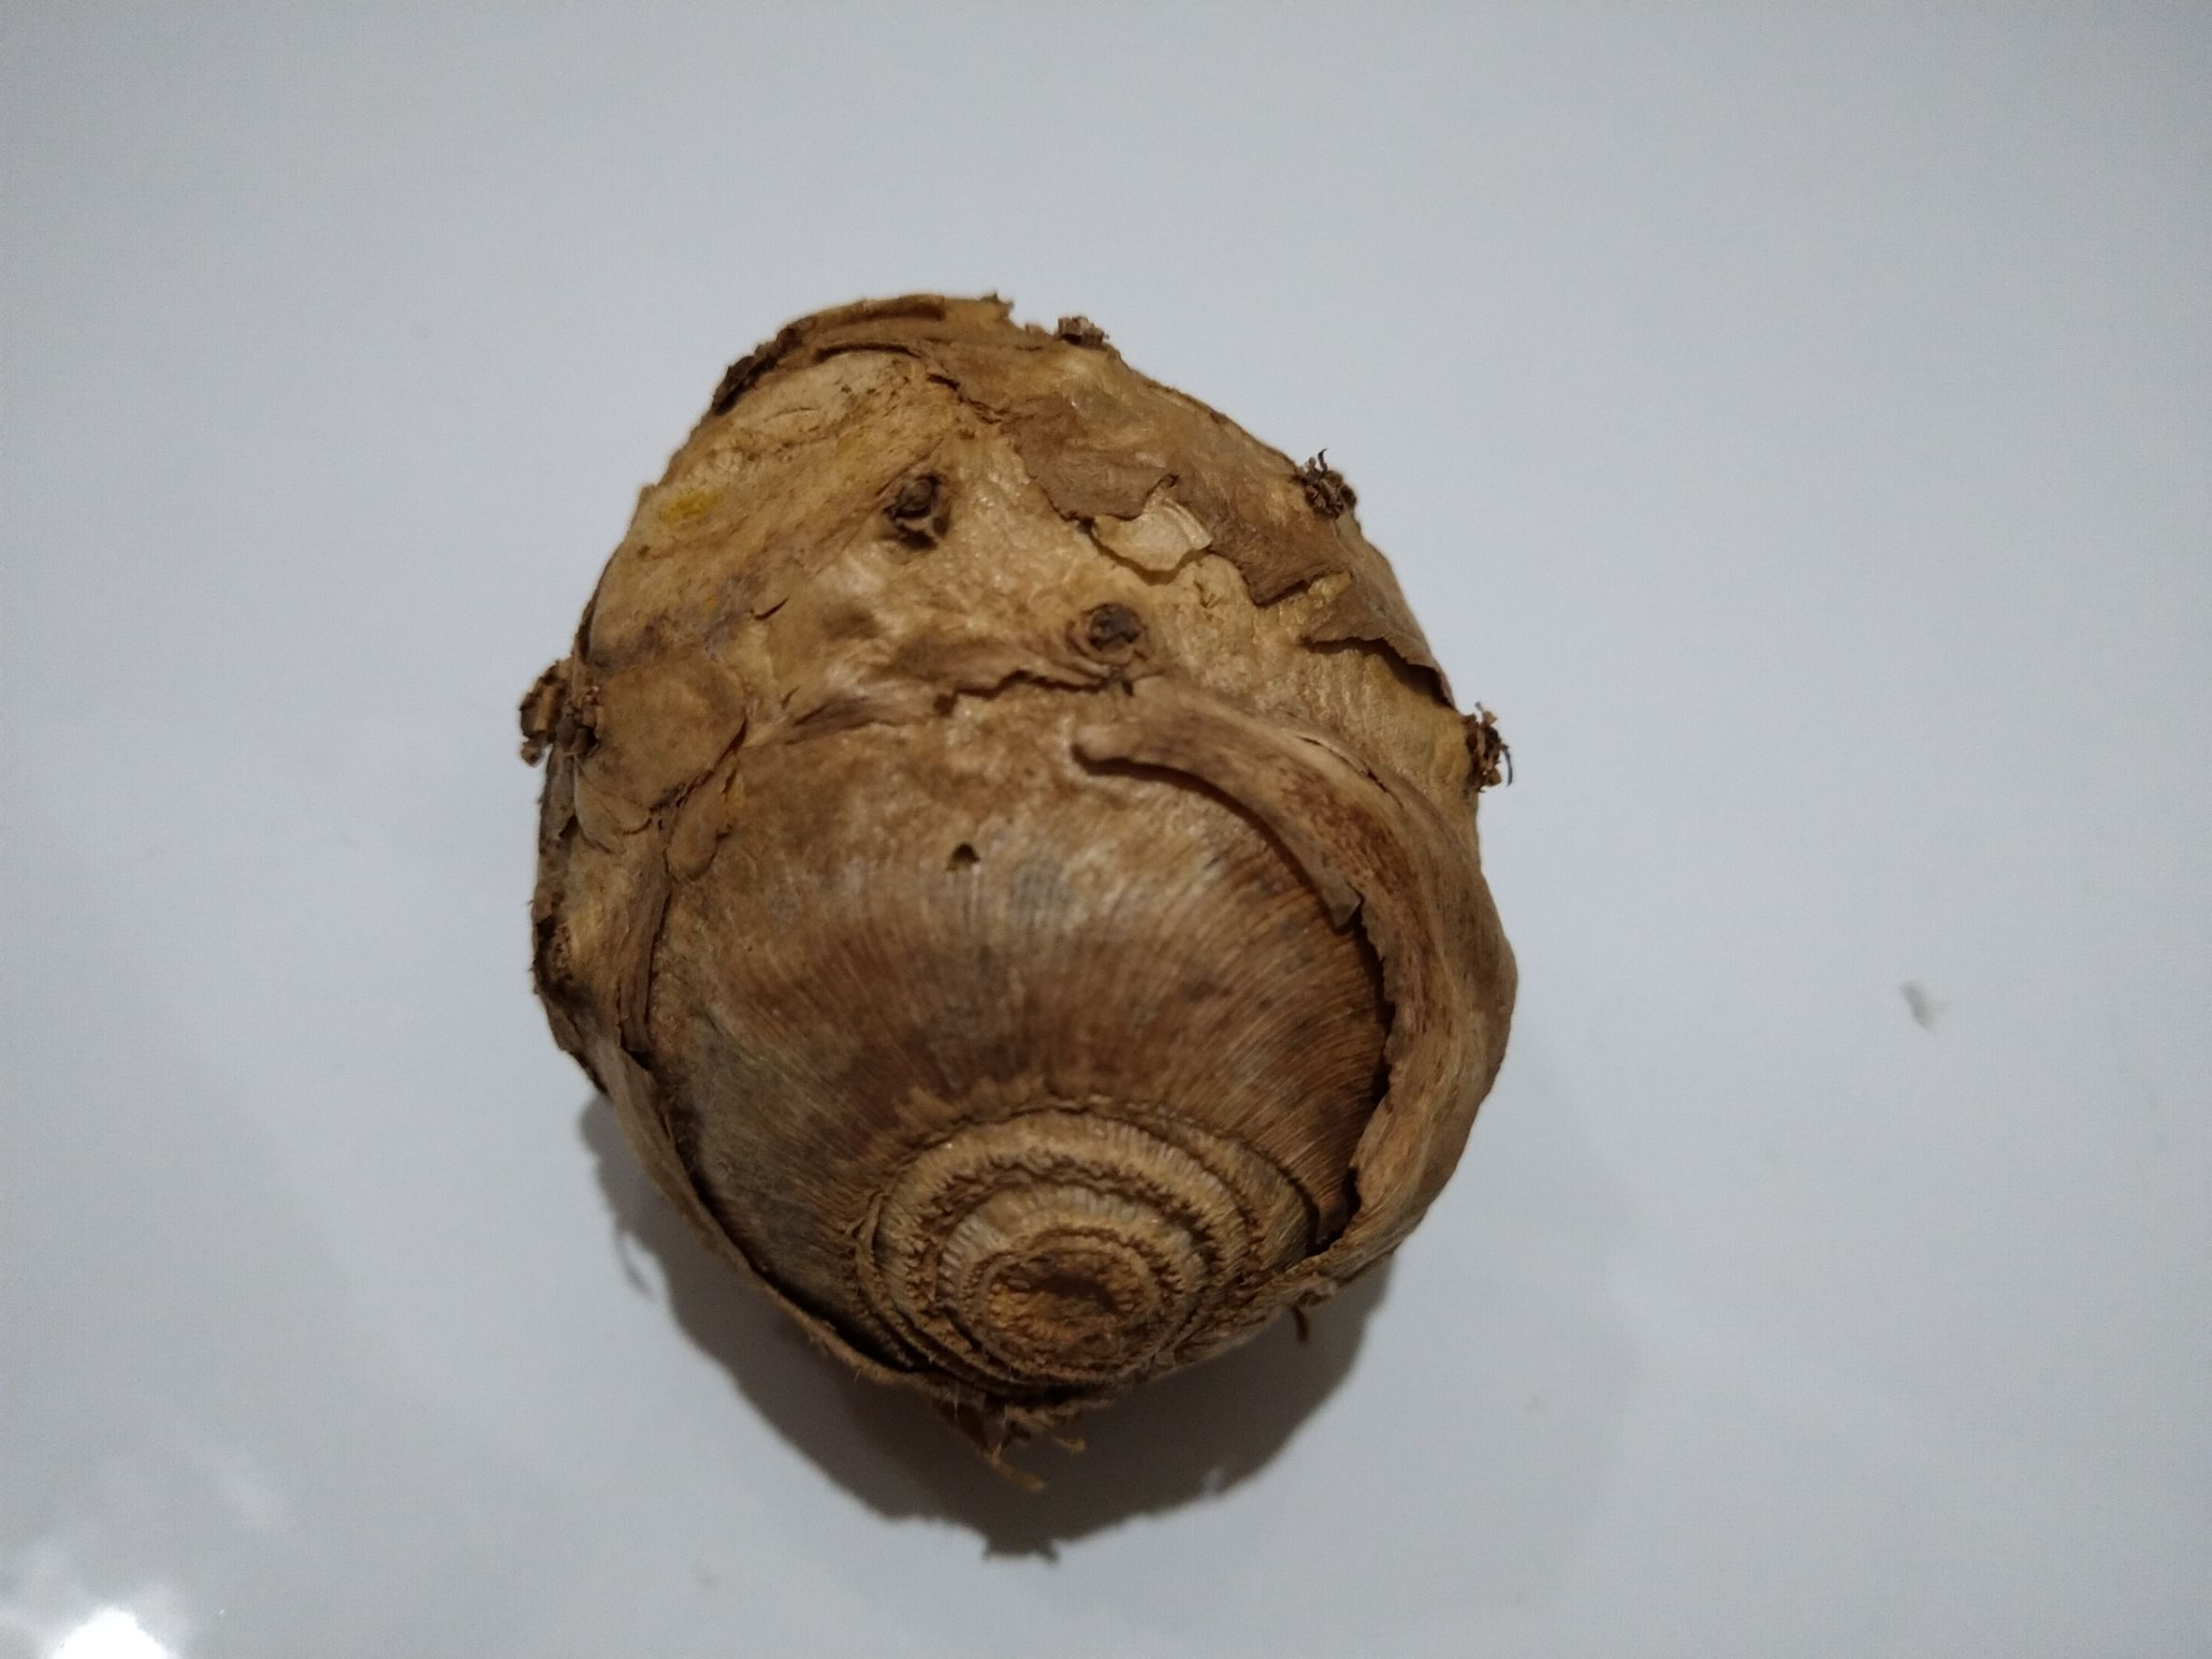Temulawak: (523, 293, 1527, 1425)
